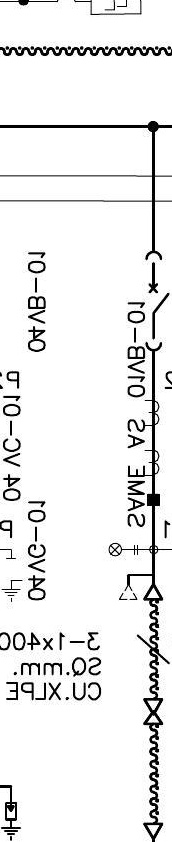22_breaker: (144, 250, 171, 352)
22_gs: (0, 556, 24, 602)
22_ll: (108, 542, 139, 557)
terminator_single: (142, 821, 164, 840)
terminator_splicing_kits: (143, 697, 164, 725)
terminator_w_future: (117, 572, 164, 602)
